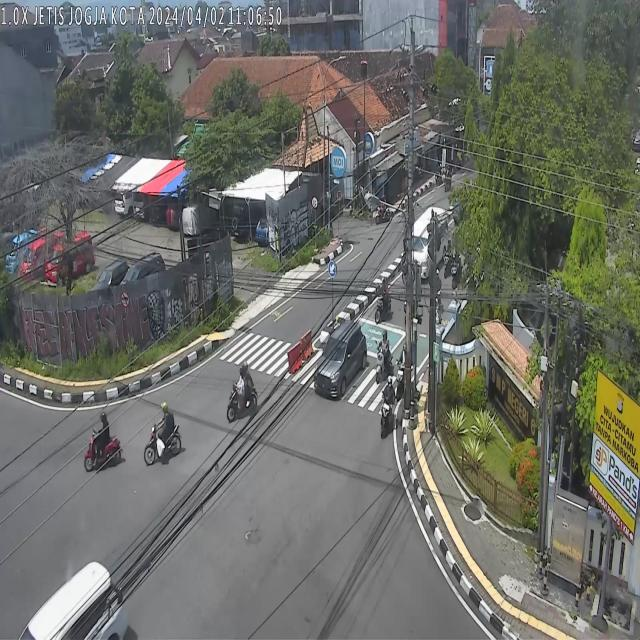car: (17, 559, 129, 640), (314, 320, 368, 400), (413, 207, 448, 277)
motorcycle: (144, 402, 182, 466), (84, 411, 123, 473), (226, 361, 258, 424), (379, 374, 395, 438), (375, 329, 391, 384), (374, 276, 391, 322), (396, 344, 406, 400), (450, 249, 463, 289), (442, 237, 452, 277)
